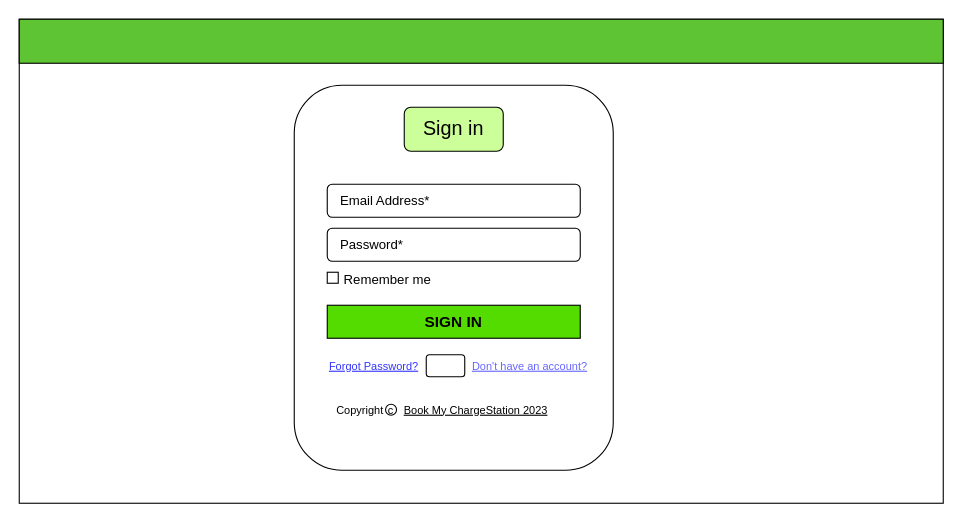
The diagram is 963 pixels wide and 523 high, and some of its shapes have lost their labels. Here are the shapes that lost their labels. From the top down, the centre of each, then its label:
point 480,40: Book My Charge Station
point 445,365: OR
